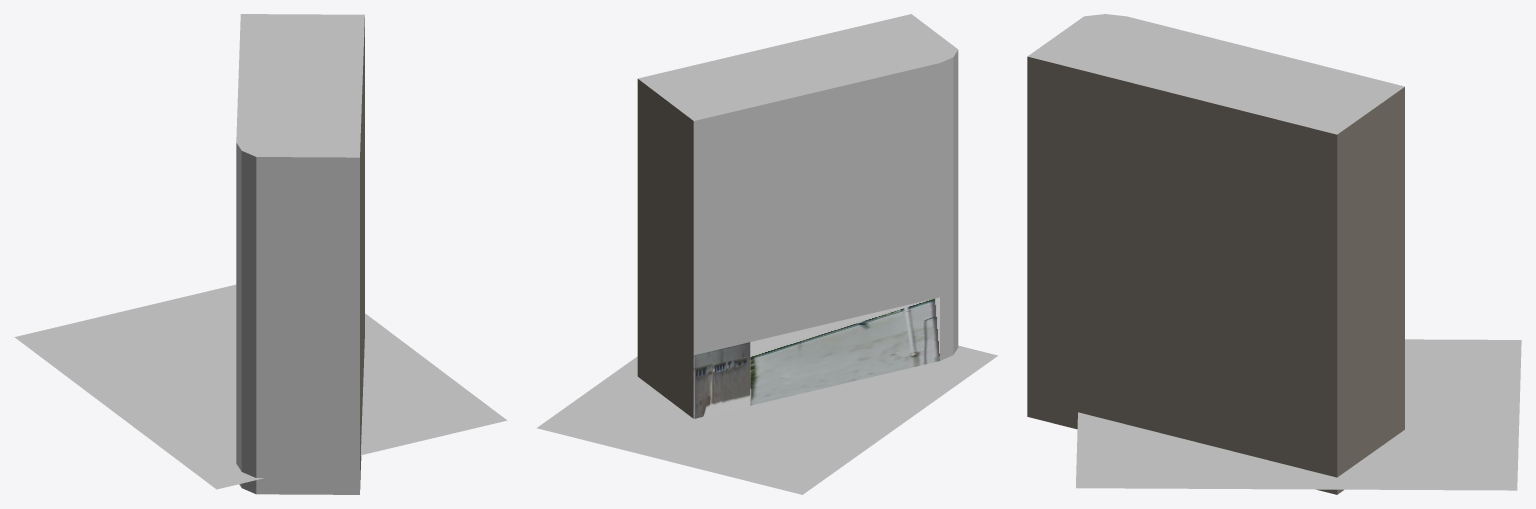
The model's file is Edifício+centro+2 (1).fbx.
The picture shows the model from 3 angles, left to right: view 1: azimuth 30°, elevation 25°; view 2: azimuth 150°, elevation 25°; view 3: azimuth 270°, elevation 25°; orthographic projection. The views are drawn at different scales.
Visible parts, largest first — view 1: Model, Google_Earth_Snapshot; view 2: Model, Google_Earth_Snapshot; view 3: Model, Google_Earth_Snapshot.
Part boxes in pixels (x1,y1,x2,y2): Model: [236, 14, 364, 494]; Google_Earth_Snapshot: [14, 284, 507, 489]; Model: [637, 14, 958, 418]; Google_Earth_Snapshot: [537, 345, 997, 494]; Model: [1027, 14, 1404, 494]; Google_Earth_Snapshot: [1076, 339, 1521, 490].
Size of the model in its own units: 22.5 by 24.73 by 30.75.
